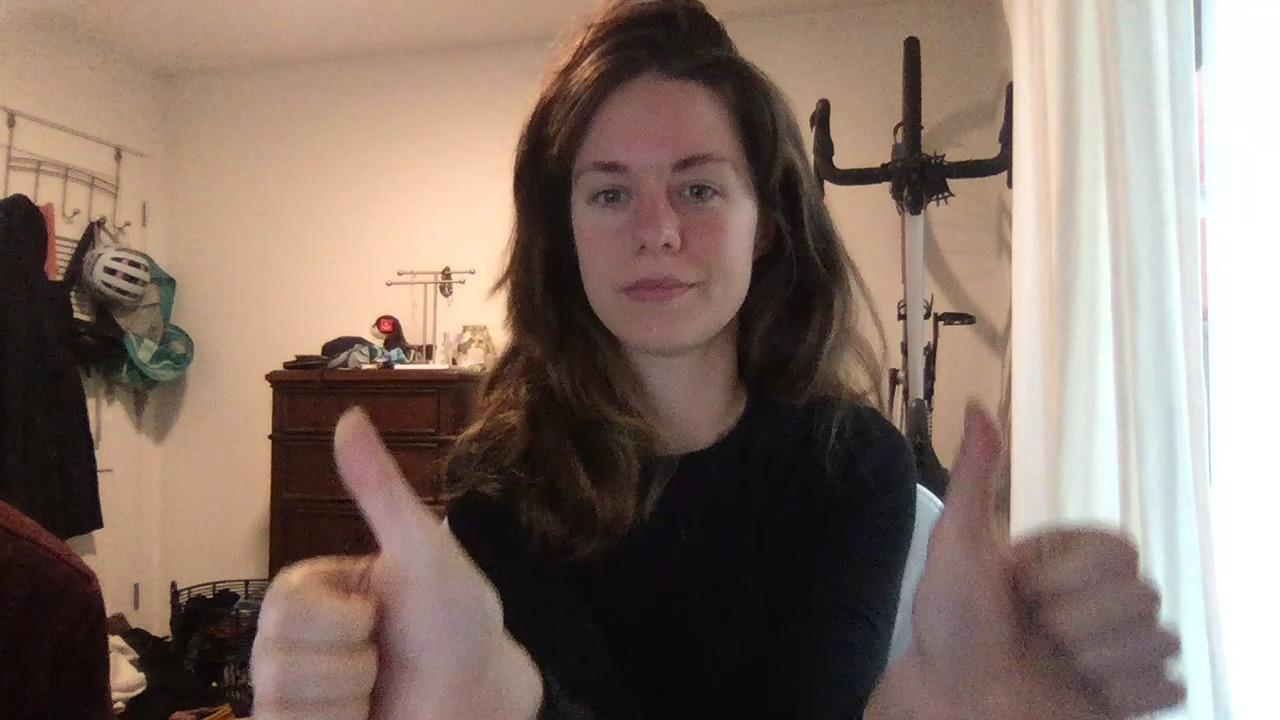face: (567, 94, 757, 356)
